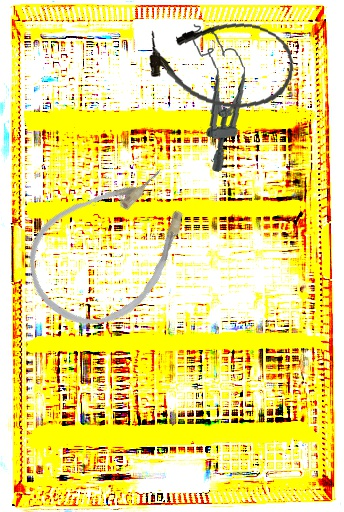Cannula: (5, 143, 220, 351), (143, 11, 299, 115)
Speculum: (189, 20, 254, 173)
